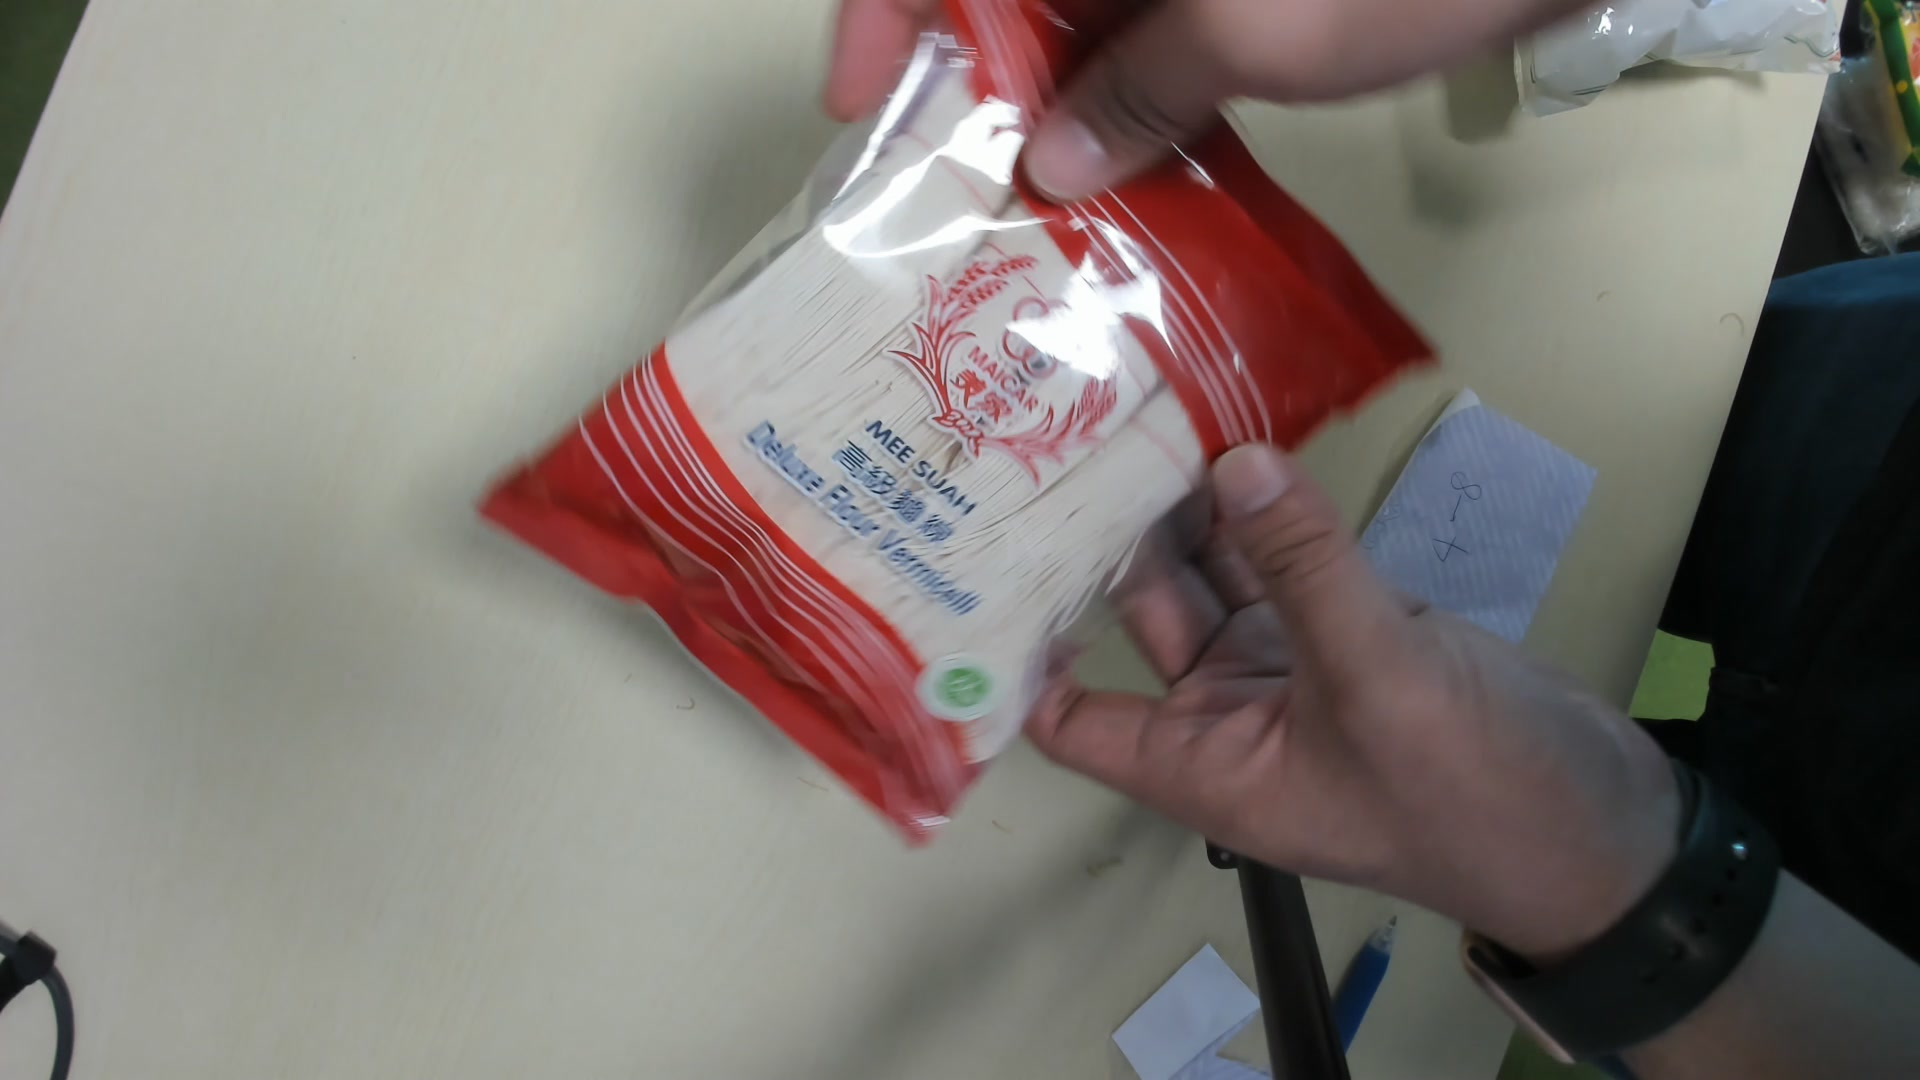BeeHoonVermicelli_100-199g_Halal_NonHealthy: (477, 5, 1447, 862)
